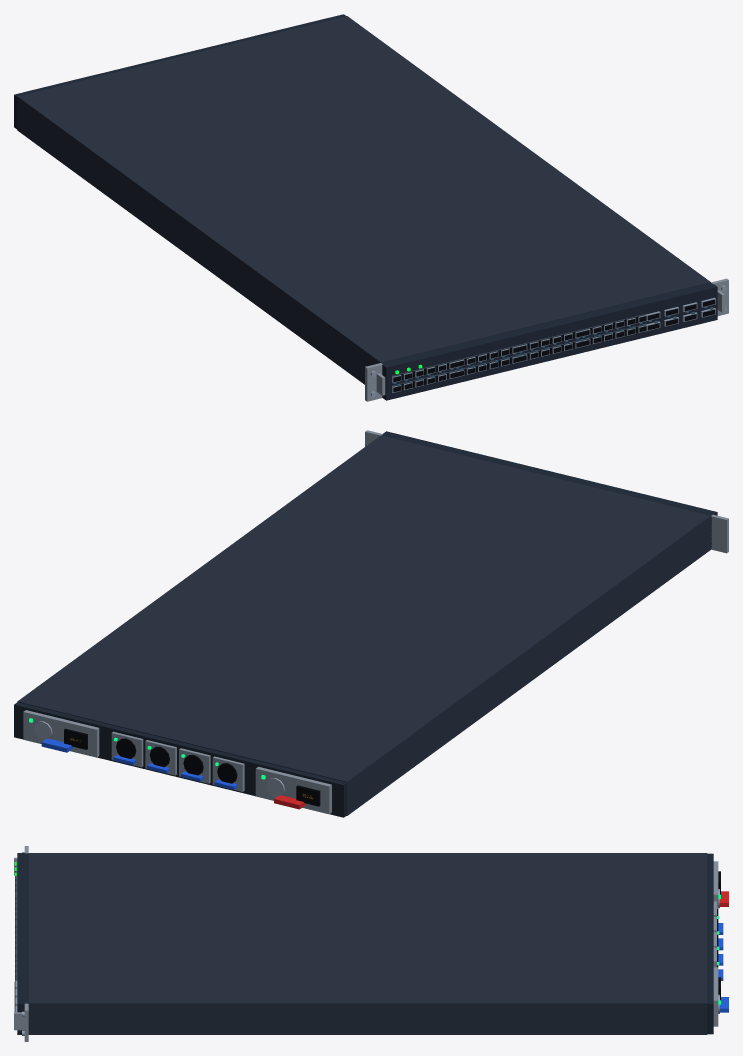
File: ruijie_s6510_dc_1u.glb
3 renders of one model, top to bottom at view 1: azimuth 30°, elevation 25°; view 2: azimuth 150°, elevation 25°; view 3: azimuth 270°, elevation 25°, orthographic. The views are drawn at different scales.
Parts seen in each view (by area): view 1: BATCH_MAT_CHASSIS_BODY, BATCH_MAT_FACEPLATE, BATCH_MAT_CAVITY_DARK, BATCH_MAT_PORT_SHIELD, BATCH_MAT_RACK_EAR, BATCH_MAT_RJ_BEZEL; view 2: BATCH_MAT_CHASSIS_BODY, BATCH_MAT_FACEPLATE, BATCH_MAT_RACK_EAR, BATCH_MAT_CAVITY_DARK; view 3: BATCH_MAT_CHASSIS_BODY, BATCH_MAT_FACEPLATE, BATCH_MAT_RACK_EAR, BATCH_MAT_CAVITY_DARK, BATCH_MAT_PORT_SHIELD.
Part boxes in pixels (x1=…): BATCH_MAT_CHASSIS_BODY: x1=17, y1=16, x2=710, y2=384; BATCH_MAT_FACEPLATE: x1=14, y1=14, x2=717, y2=400; BATCH_MAT_CAVITY_DARK: x1=393, y1=299, x2=715, y2=392; BATCH_MAT_PORT_SHIELD: x1=370, y1=285, x2=726, y2=397; BATCH_MAT_RACK_EAR: x1=25, y1=17, x2=728, y2=401; BATCH_MAT_RJ_BEZEL: x1=391, y1=313, x2=646, y2=393; BATCH_MAT_CHASSIS_BODY: x1=17, y1=435, x2=710, y2=815; BATCH_MAT_FACEPLATE: x1=14, y1=431, x2=717, y2=817; BATCH_MAT_RACK_EAR: x1=23, y1=430, x2=728, y2=814; BATCH_MAT_CAVITY_DARK: x1=64, y1=728, x2=320, y2=806; BATCH_MAT_CHASSIS_BODY: x1=28, y1=853, x2=707, y2=1034; BATCH_MAT_FACEPLATE: x1=17, y1=853, x2=713, y2=1034; BATCH_MAT_RACK_EAR: x1=14, y1=846, x2=718, y2=1041; BATCH_MAT_CAVITY_DARK: x1=14, y1=866, x2=720, y2=1011; BATCH_MAT_PORT_SHIELD: x1=15, y1=852, x2=719, y2=1035.
Size of the model in its own units: 0.4826 by 0.0435 by 0.885.
